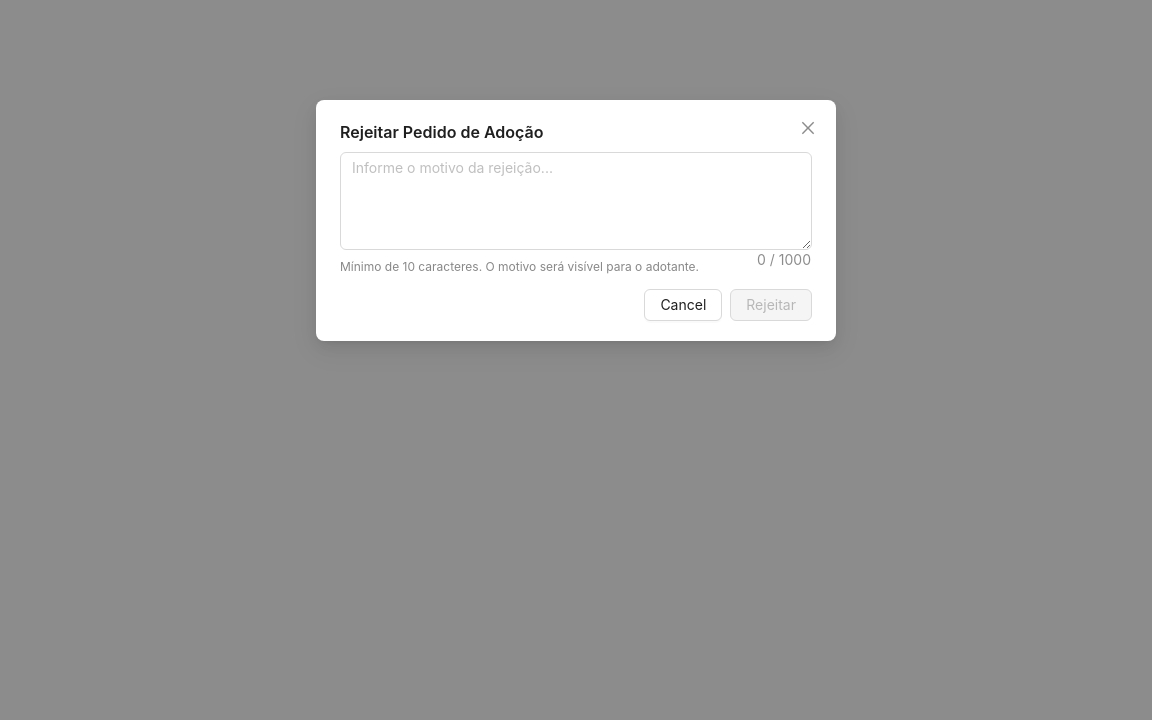
it: RejectRequestModal › should enable reject button when text has 10 or more characters
Step 1. Type "Motivo válido para rejeição" into the text box with placeholder "Informe o motivo da rejeição..." → (576, 201), box [341,153,811,249]
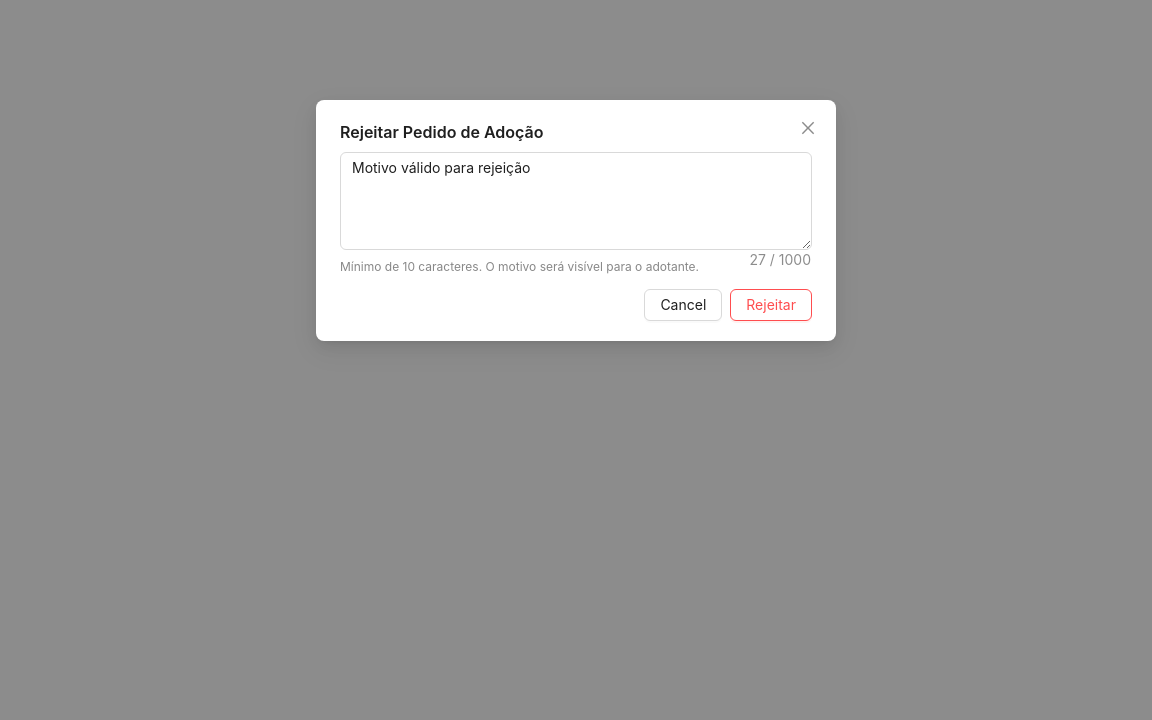
Check: the button "Rejeitar" is enabled, box [730,289,812,321]
